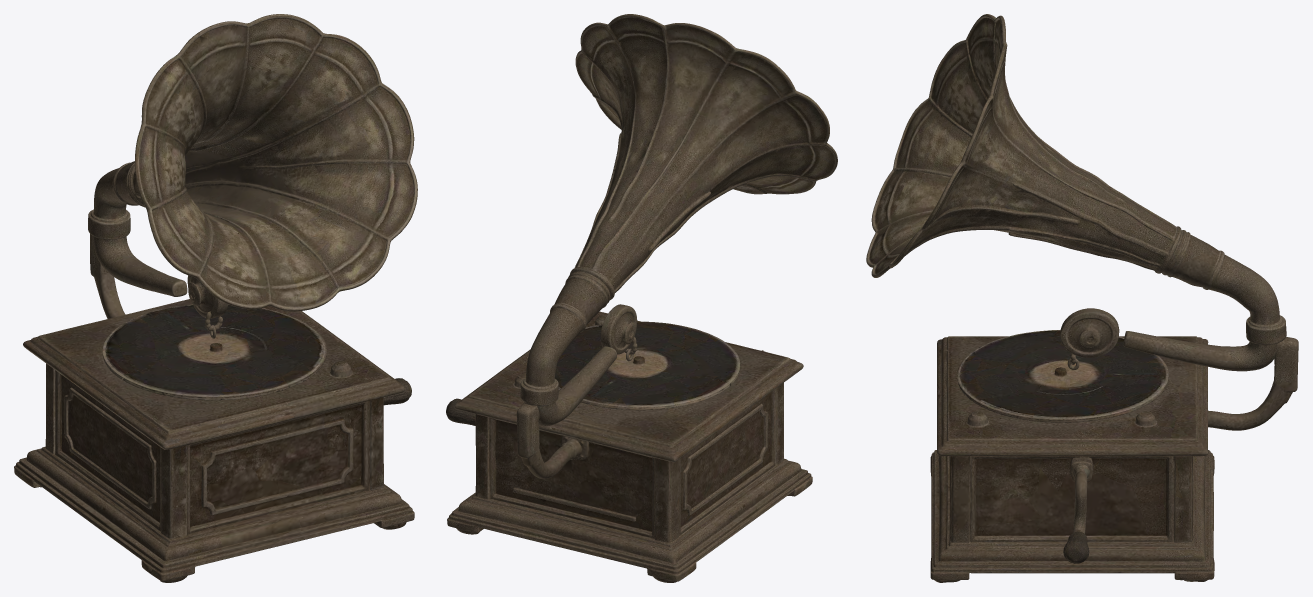
3 renders of one model, left to right at view 1: azimuth 30°, elevation 25°; view 2: azimuth 150°, elevation 25°; view 3: azimuth 270°, elevation 25°, orthographic. The views are drawn at different scales.
Visible parts, largest first — view 1: Mesh_0; view 2: Mesh_0; view 3: Mesh_0.
Part boxes in pixels (left/top/right/bottom): Mesh_0: left=14, top=14, right=417, bottom=582; Mesh_0: left=446, top=14, right=837, bottom=582; Mesh_0: left=866, top=14, right=1298, bottom=582.
Size of the model in its own units: 1.34 by 1.9 by 1.53.
Materials: 1 (1 with a texture image).
